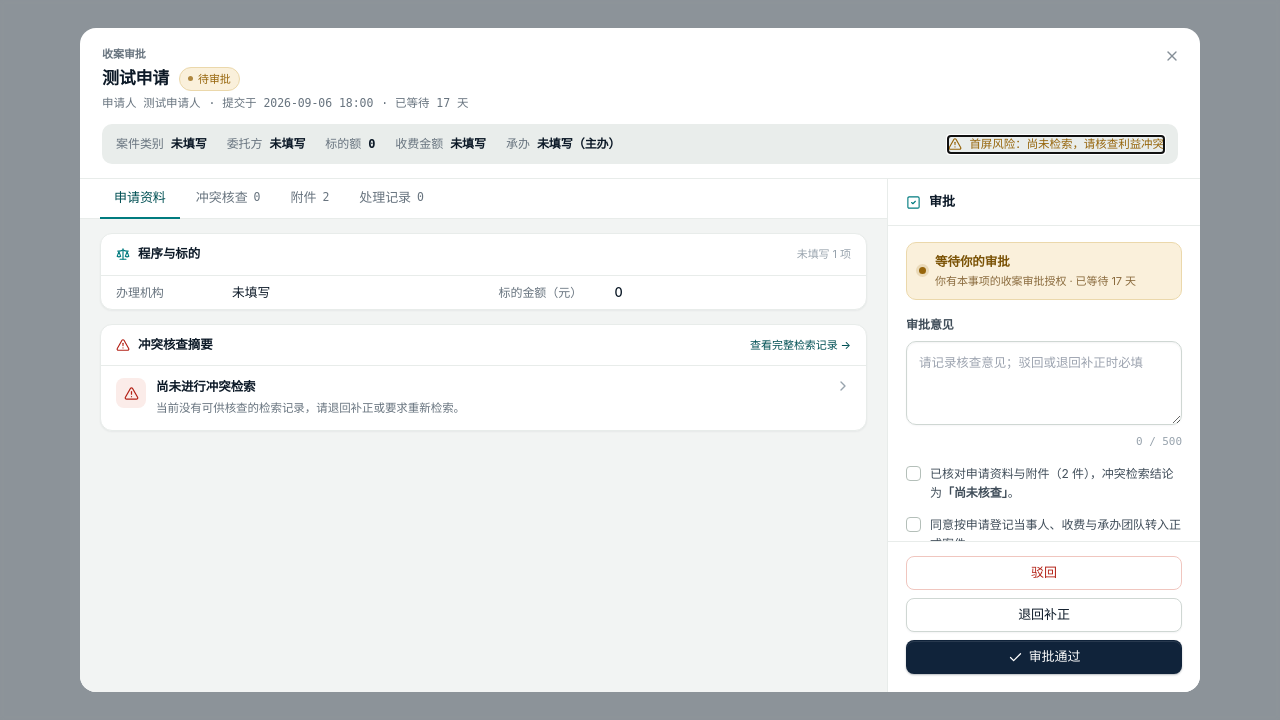
Scenario: 立案审批分区审阅 › 切换风险、附件与历史仍保留审批意见，附件权限继续逐件生效
The image size is (1280, 720).
In the text box named "审批意见或驳回原因": (1044, 383) [906,341,1182,425], type "需要核实代理关系"
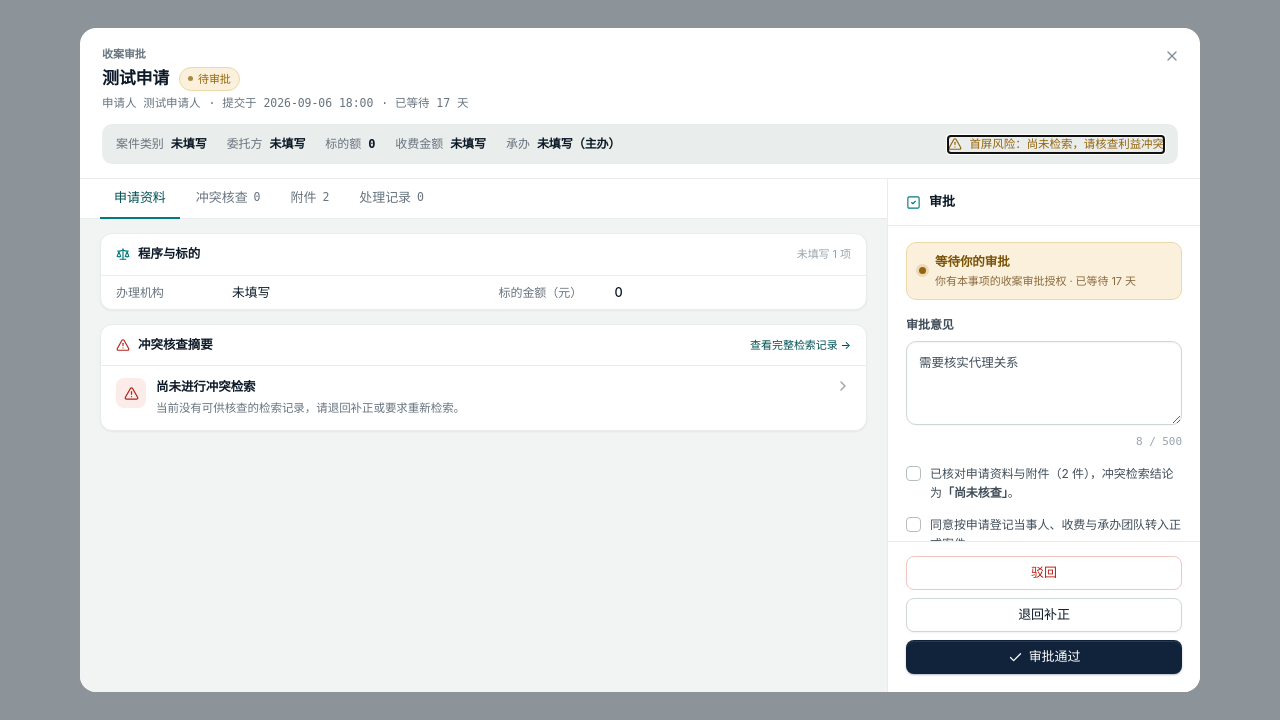
Click the button "首屏风险：尚未检索，请核查利益冲突": (1056, 144) [948,136,1164,153]
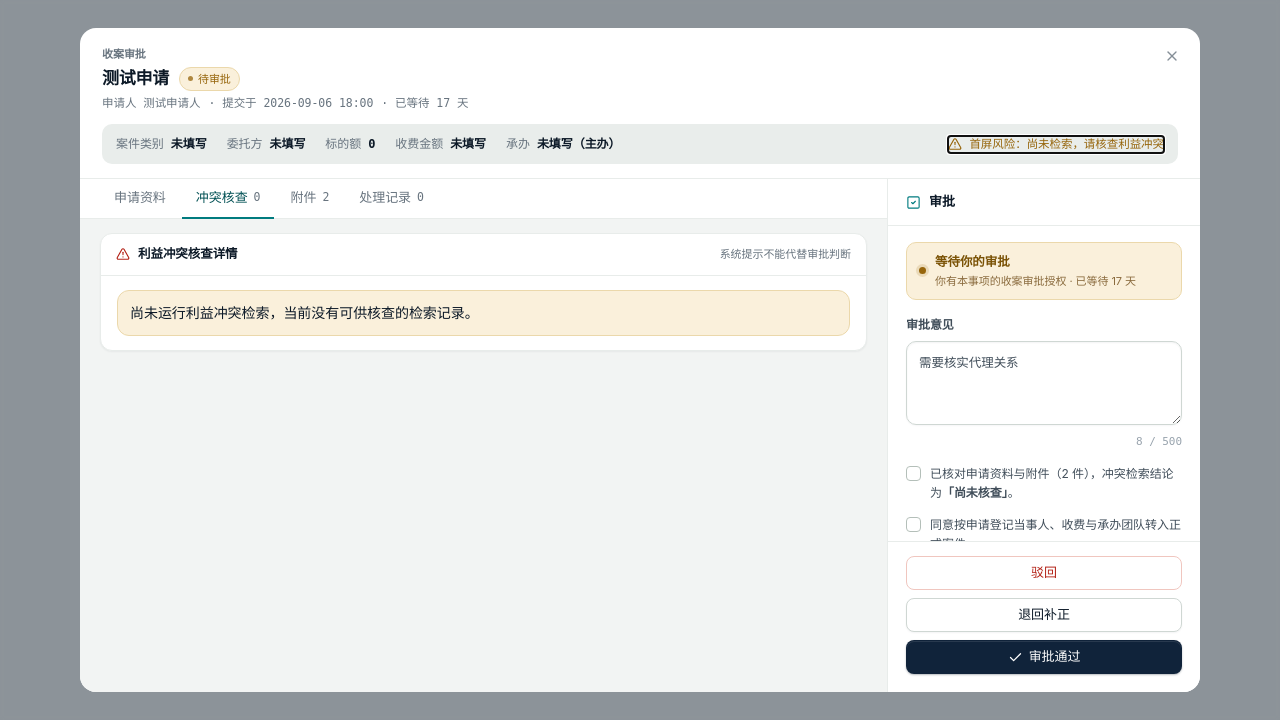
expect the text "尚未运行利益冲突检索，当前没有可供核查的检索记录。" is shown: met, box [117,290,850,336]
Press the mouse on the tab "附件 2": (310, 199) [276,179,343,219]
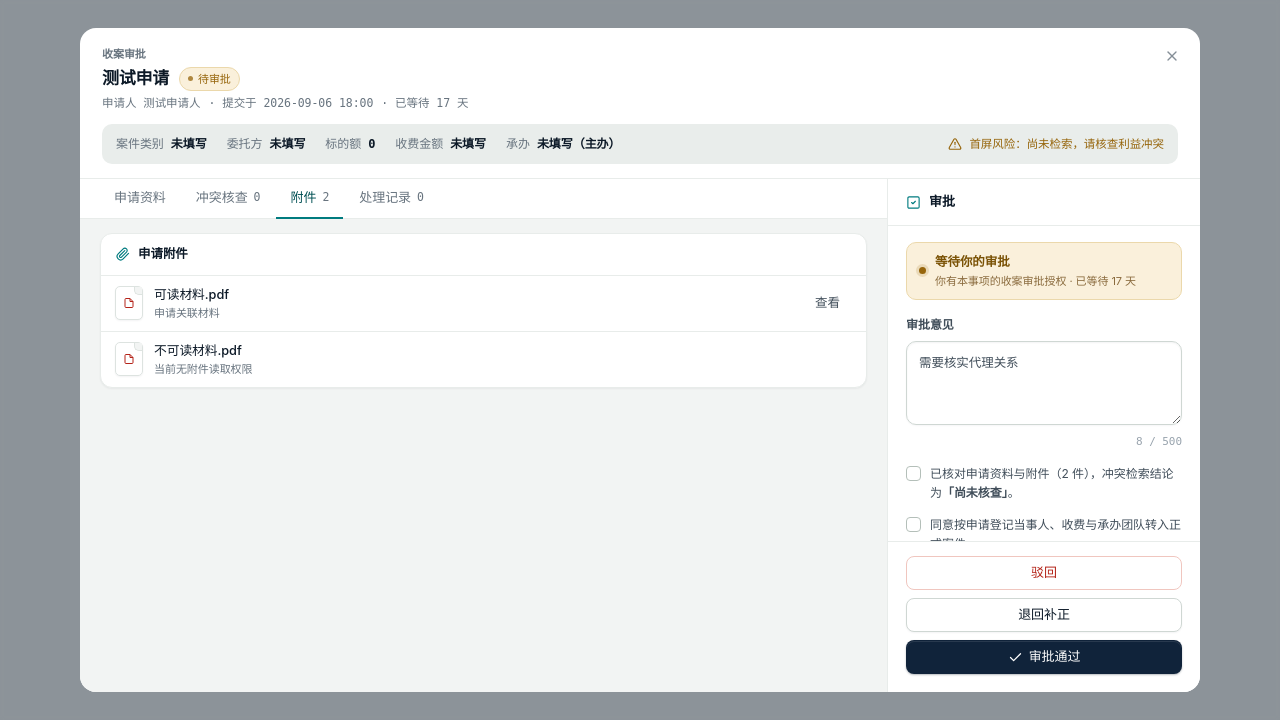
expect the text "当前无附件读取权限" is shown: met, box [154,362,252,376]
Press the mouse on the tab "处理记录 0": (392, 199) [345,179,438,219]
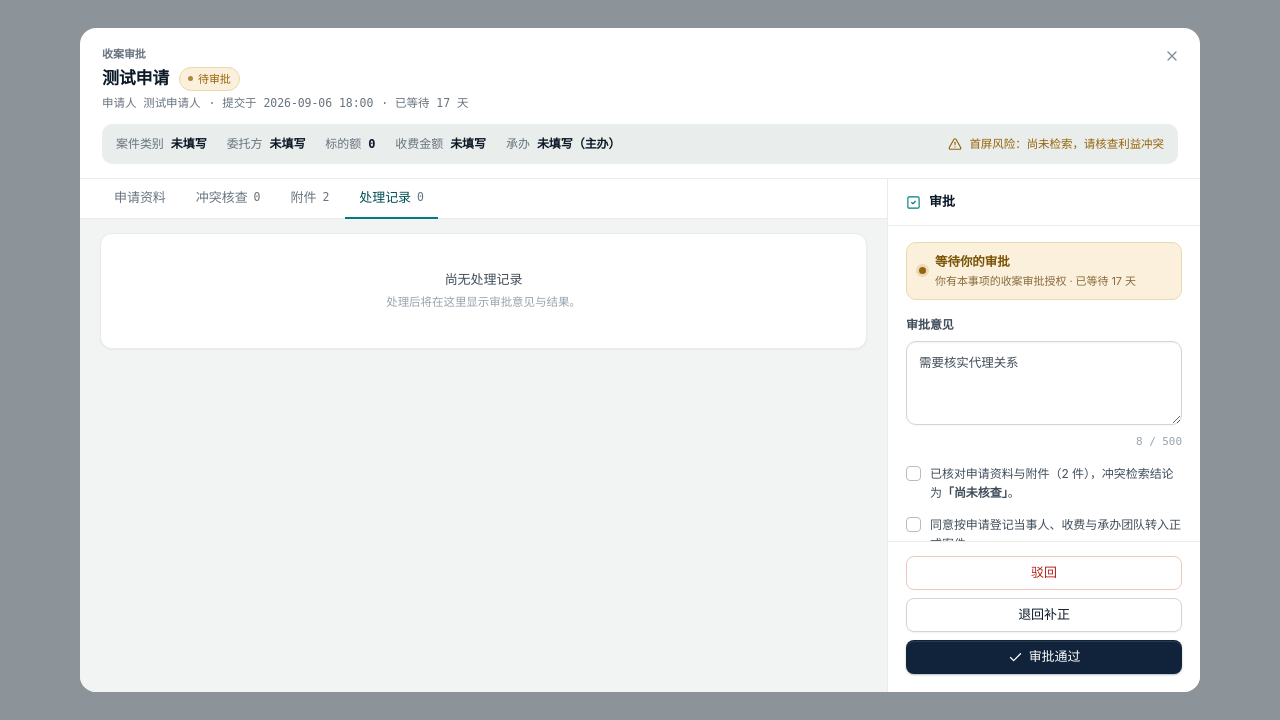
expect the text "尚无处理记录" is shown: met, box [445,270,522,289]
